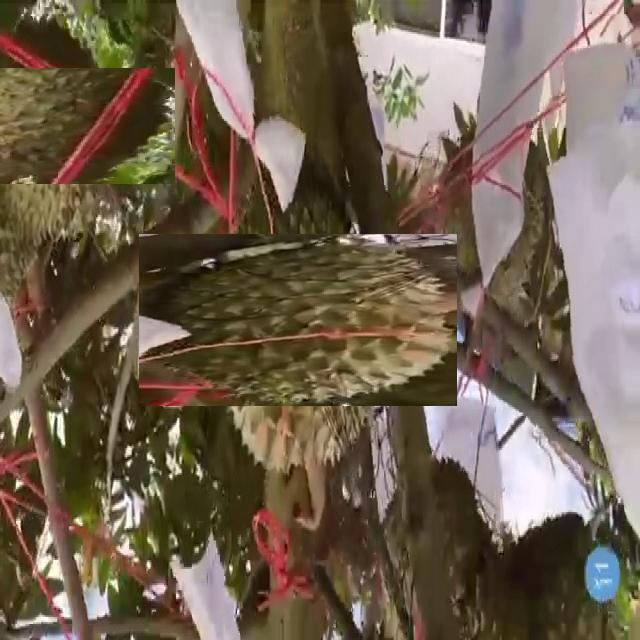durian: (175, 197, 420, 442), (0, 40, 146, 214)
